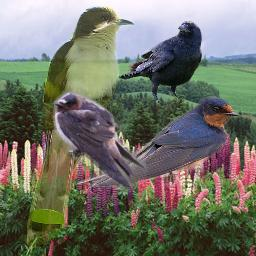Crow: (118, 21, 202, 106)
Cuckoo: (26, 6, 135, 249)
Swallow: (74, 95, 241, 190), (52, 91, 148, 192)
